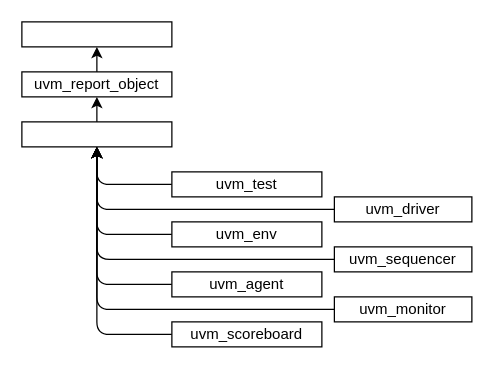
This 494x369 diagram has some shape labels left out. Each missing label, with the centre of its shape:
uvm_component: the point at 96,134
uvm_object: the point at 96,34
